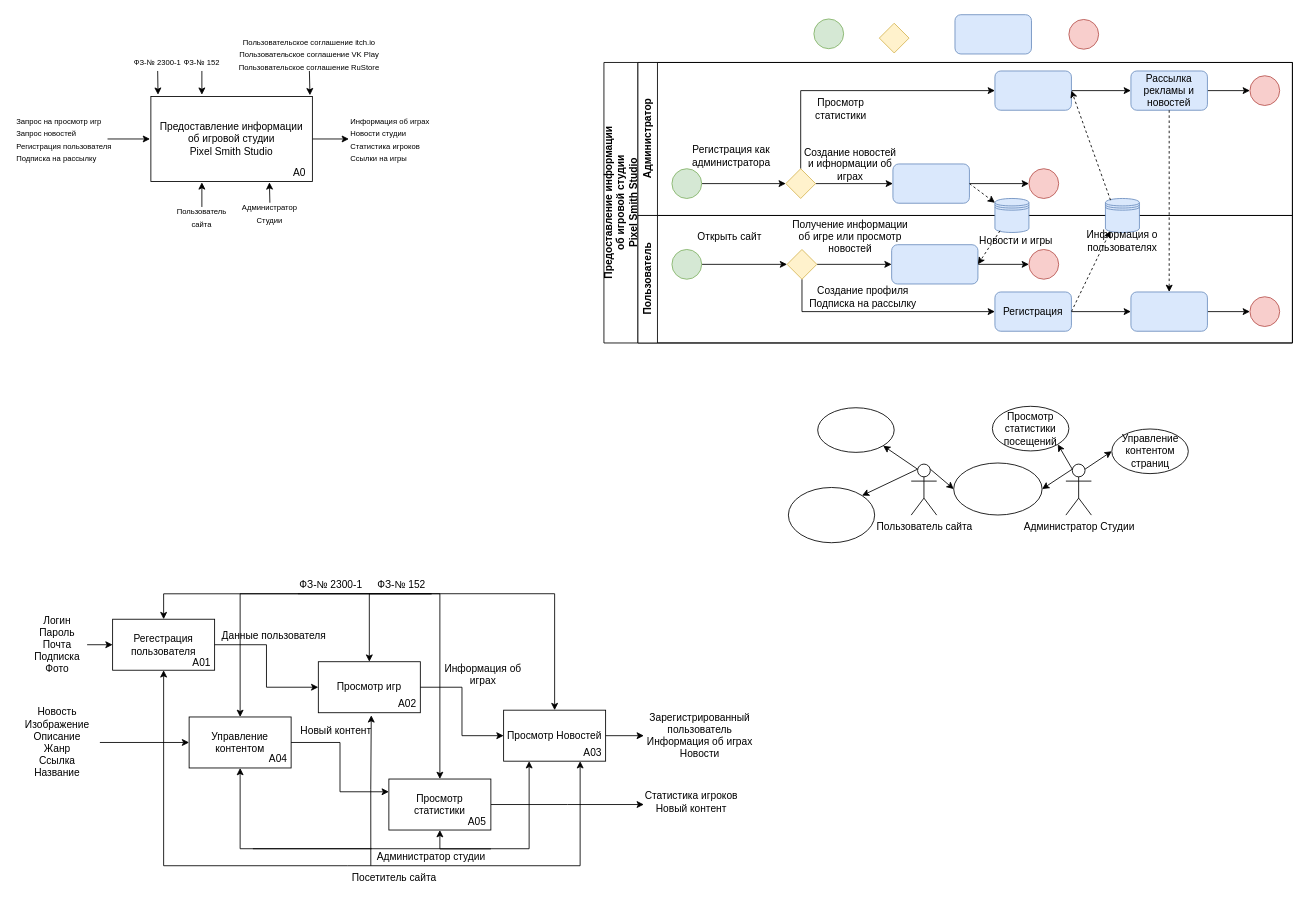
The diagram is 1307 pixels wide and 906 high, and some of its shapes have lost their labels. The centre of each missing label's shape, as x and y in pixels:
Новости и реклама: the point at 997,488
Переход на старницу новостей или игр: the point at 934,264
Переход по ссылкам на игры: the point at 855,429
Получение рекламы и новостей: the point at 1168,311
Просмотр информации: the point at 1032,90
Регистрация и подписка на рекламу: the point at 831,515
Создание контента: the point at 930,183
